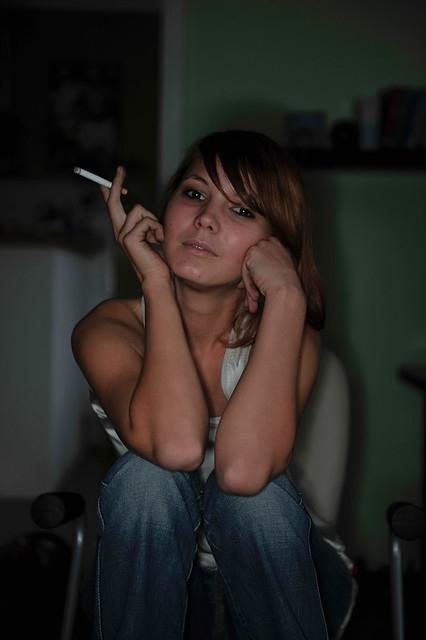cigarette: (72, 165, 133, 198)
